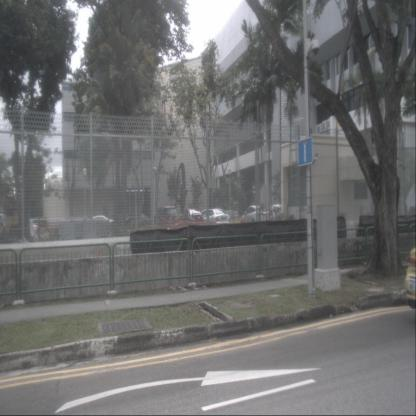vehicle-car: (240, 204, 271, 231), (199, 208, 230, 234), (154, 206, 178, 234), (177, 209, 205, 233)
